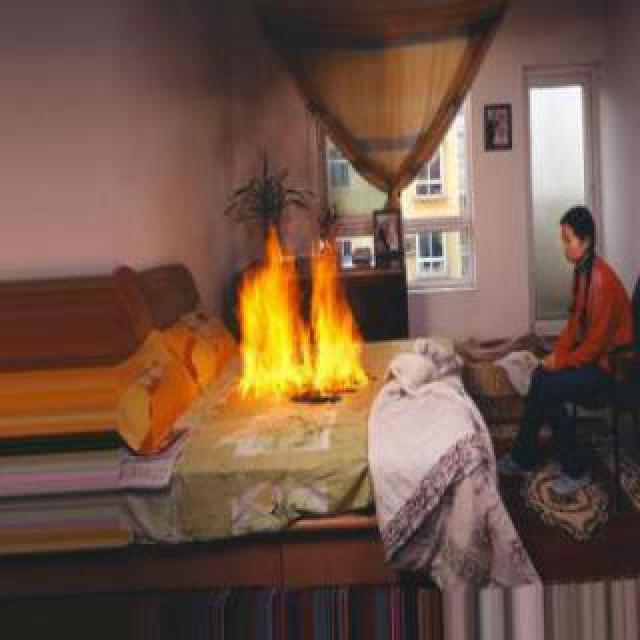Fire: (232, 222, 364, 408)
